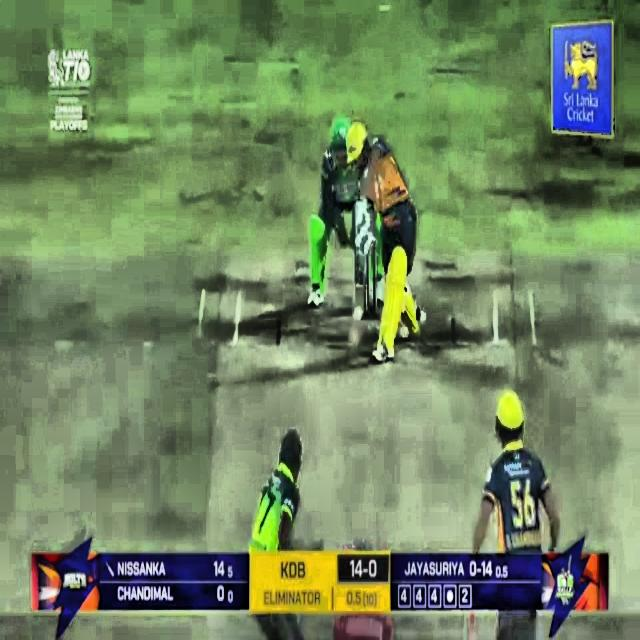Middle-stump: (365, 281, 369, 316)
Right-stump: (372, 246, 376, 316)
